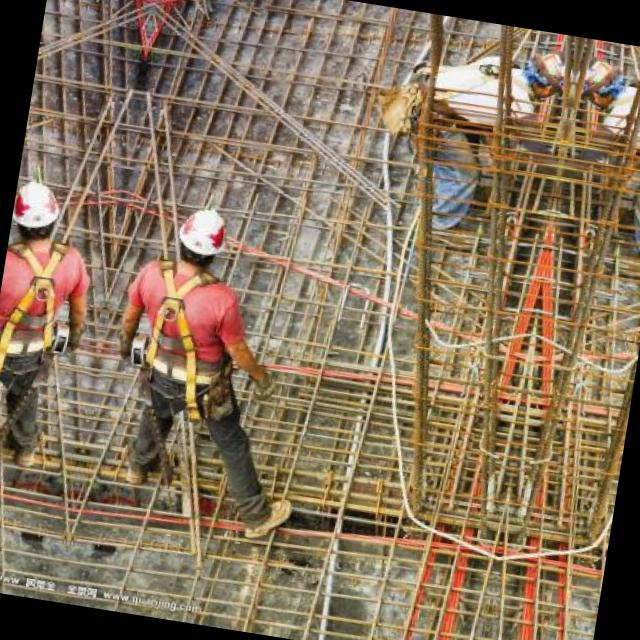helmet: (170, 206, 233, 272), (8, 180, 68, 247), (518, 40, 576, 106), (570, 48, 628, 114)
